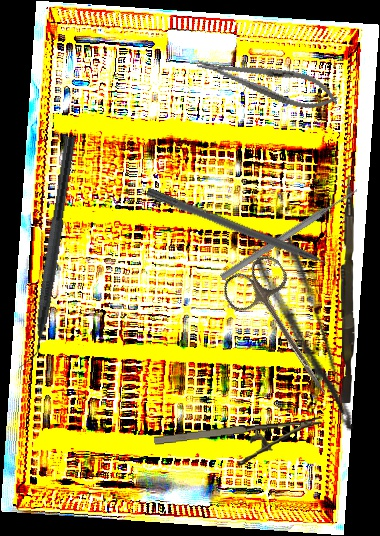Chopper: (16, 133, 76, 372)
Dressing Forceps: (250, 233, 359, 443)
Iris Scissors: (217, 250, 355, 411)
Needle Holder: (192, 45, 343, 118), (153, 416, 325, 474)
Pusher: (144, 186, 352, 280), (219, 185, 360, 283), (337, 174, 357, 404)
